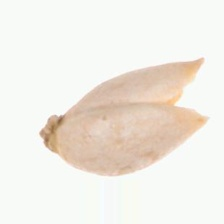L1: (171, 57, 209, 128), (38, 114, 61, 155)
L2: (39, 57, 210, 177)
